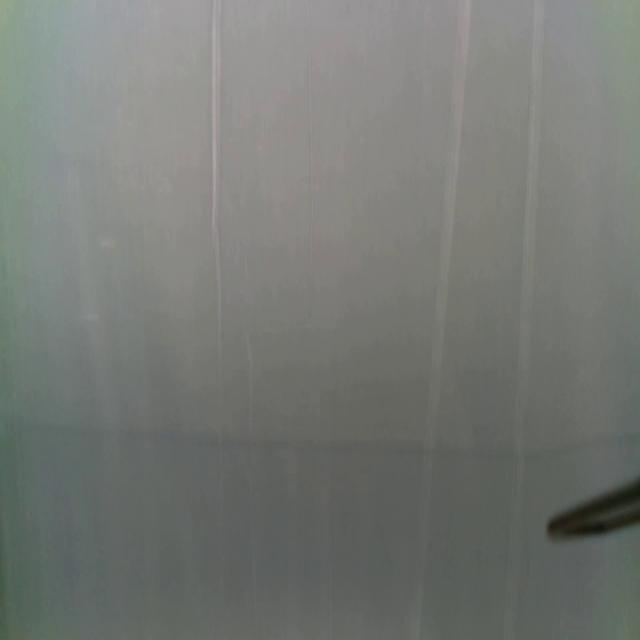color bleeding: (5, 404, 640, 472)
crease: (417, 0, 473, 636), (502, 0, 543, 639), (209, 0, 225, 368), (306, 42, 318, 256)
